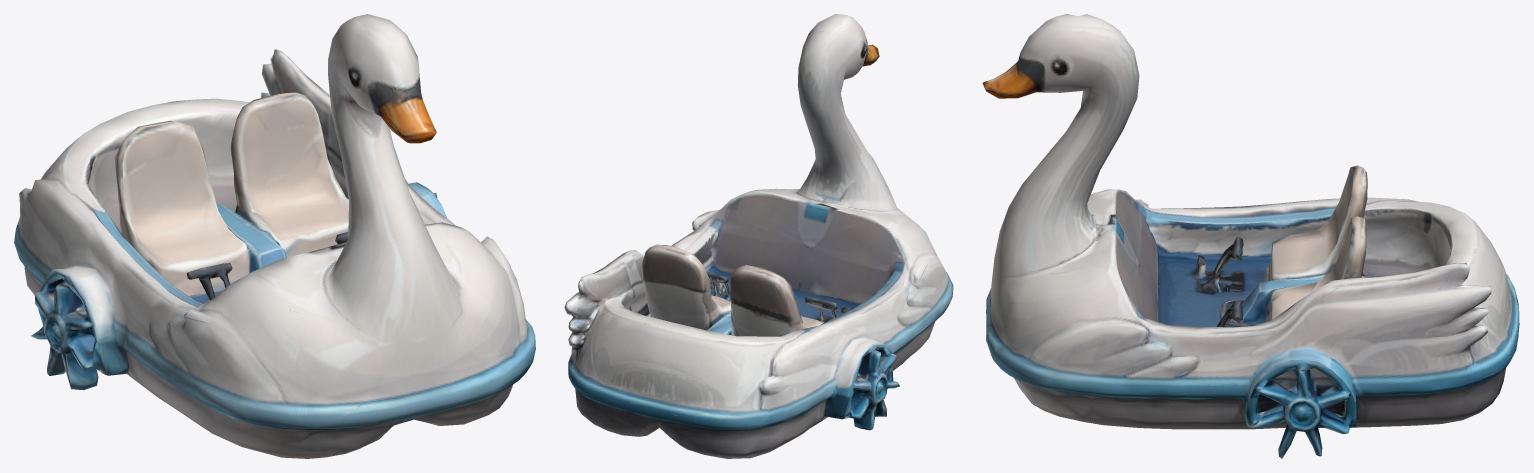
File: 롯데_백조보트.glb
The picture shows the model from 3 angles, left to right: view 1: azimuth 30°, elevation 25°; view 2: azimuth 150°, elevation 25°; view 3: azimuth 270°, elevation 25°; orthographic projection. The views are drawn at different scales.
Parts seen in each view (by area): view 1: texture_mapping; view 2: texture_mapping; view 3: texture_mapping.
Boxes of the visible parts, bbox=[...] form: texture_mapping: bbox=[14, 14, 535, 458]; texture_mapping: bbox=[564, 14, 953, 458]; texture_mapping: bbox=[982, 14, 1519, 458].
Size of the model in its own units: 0.7347 by 0.7544 by 1.
1 material, 1 textured.
